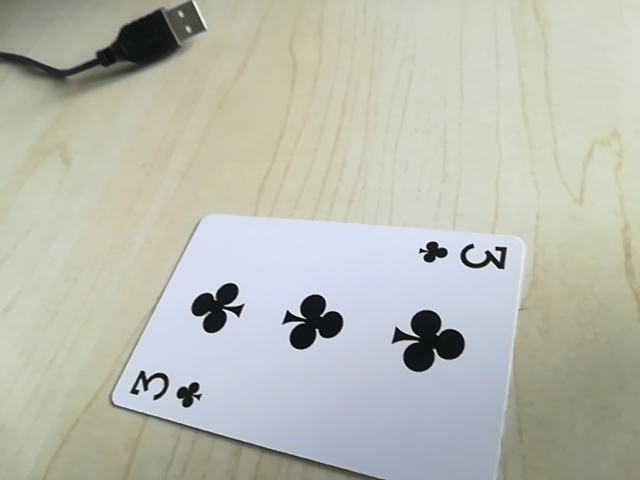mh 3: (122, 364, 211, 412), (416, 236, 511, 276)
